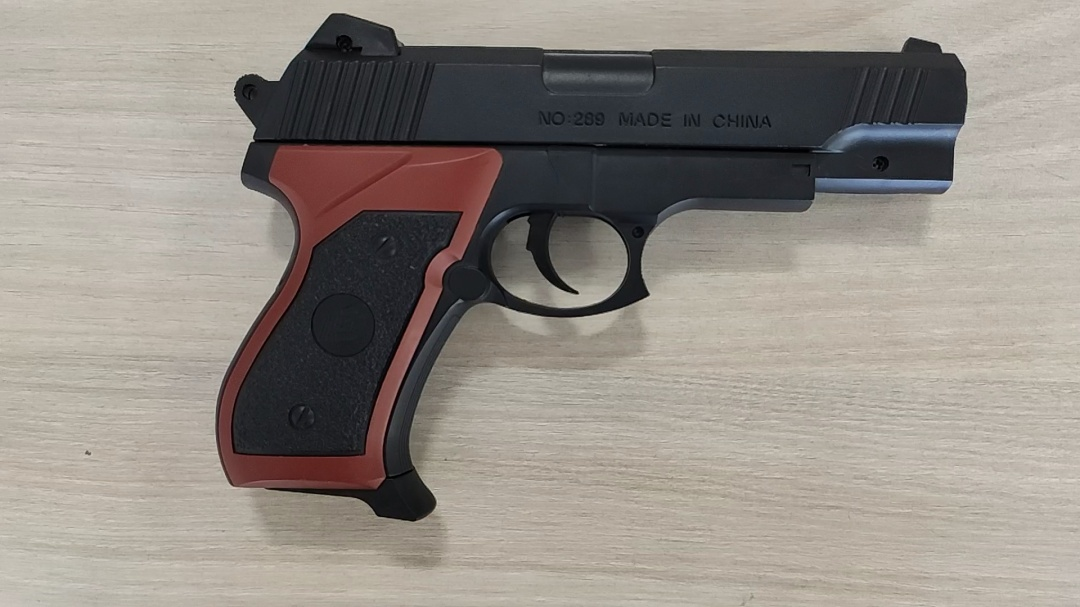gun: (208, 11, 972, 530)
